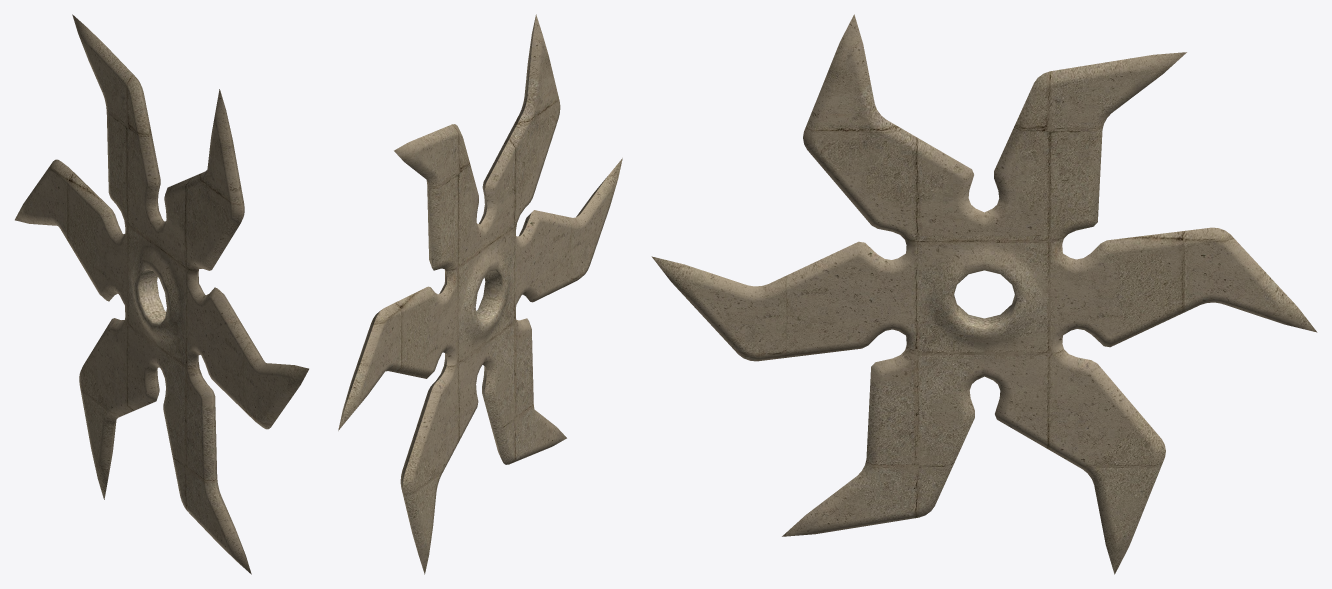
Rendered from shuriken.glb.
The picture shows the model from 3 angles, left to right: view 1: azimuth 30°, elevation 25°; view 2: azimuth 150°, elevation 25°; view 3: azimuth 270°, elevation 25°; orthographic projection. The views are drawn at different scales.
Parts seen in each view (by area): view 1: SM_Shuriken; view 2: SM_Shuriken; view 3: SM_Shuriken.
Boxes of the visible parts, x1,y1,x2,y2 form: SM_Shuriken: (15, 14, 308, 574); SM_Shuriken: (338, 14, 622, 574); SM_Shuriken: (651, 14, 1317, 574).
Bounding box in the file's own units: 0.0038 × 0.0916 × 0.0986.
1 material, 1 textured.
